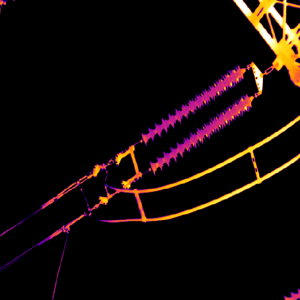insulator: (141, 62, 254, 174)
